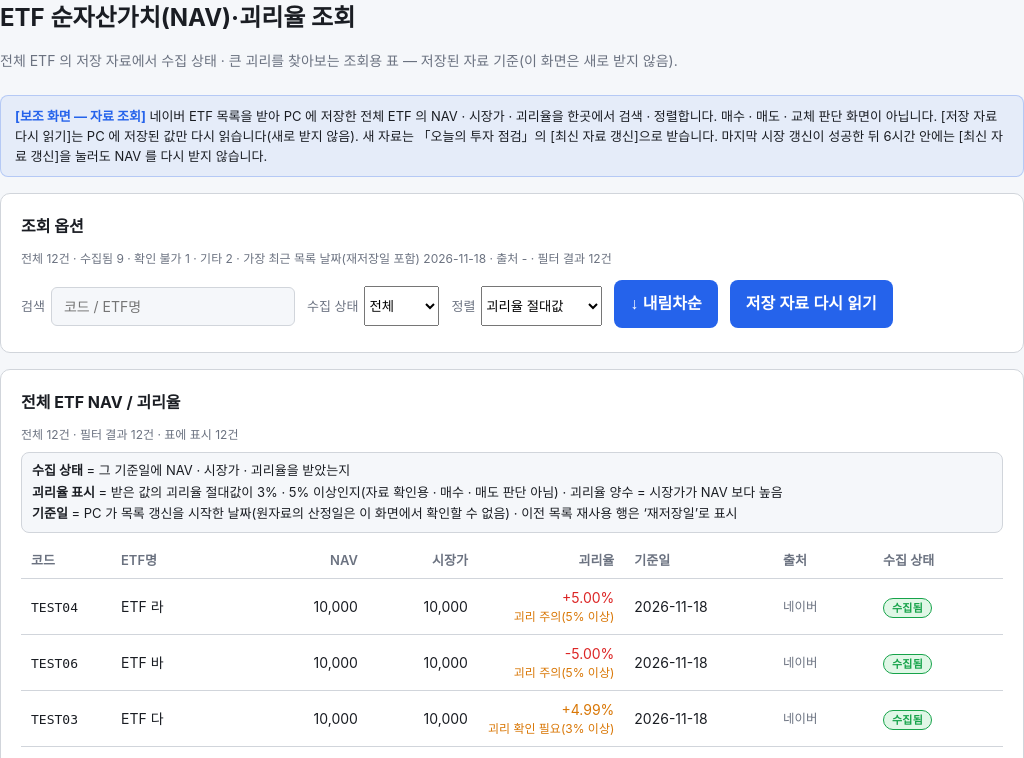
Test: 「ETF NAV·괴리율 조회」 화면 › 사전 밖 값이 없으면 [자세히] 원문 칸이 없다 · 고르기 결과가 없어도 원문 칸은 남는다
This screenshot has width=1024, height=758.
Step 1. Type "없는 이름" into the field with placeholder "코드 / ETF명" → (173, 306), box [51,287,295,326]
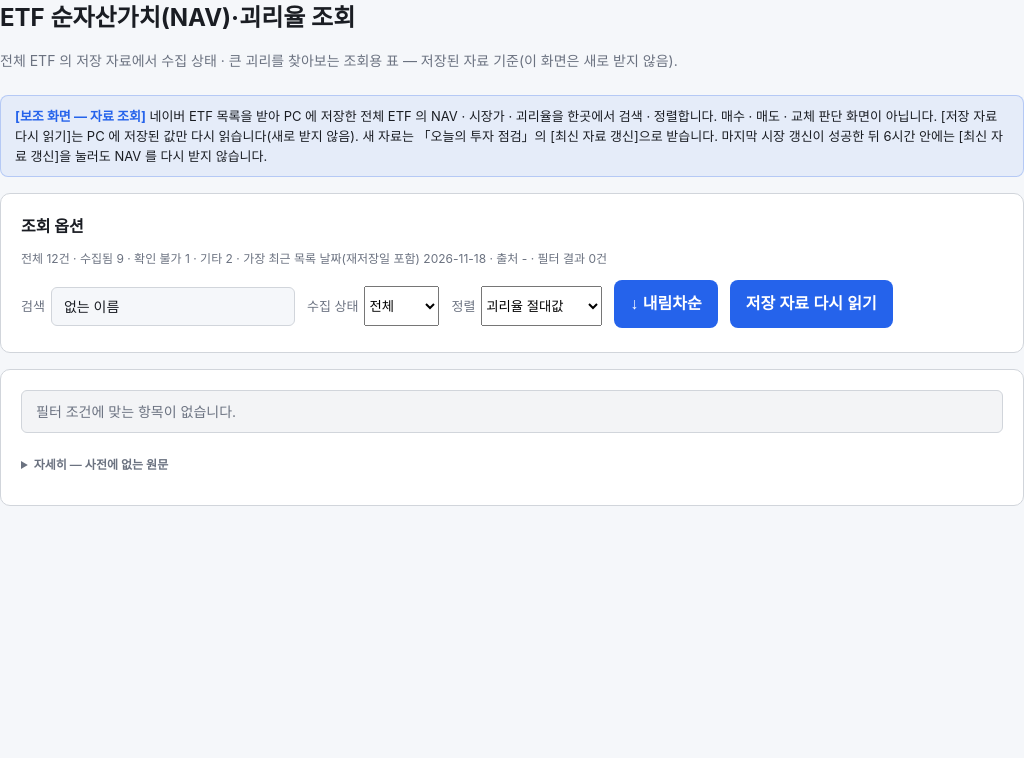
Expected: the text "필터 조건에 맞는 항목이 없습니다." is shown, [21,390,1003,433]
